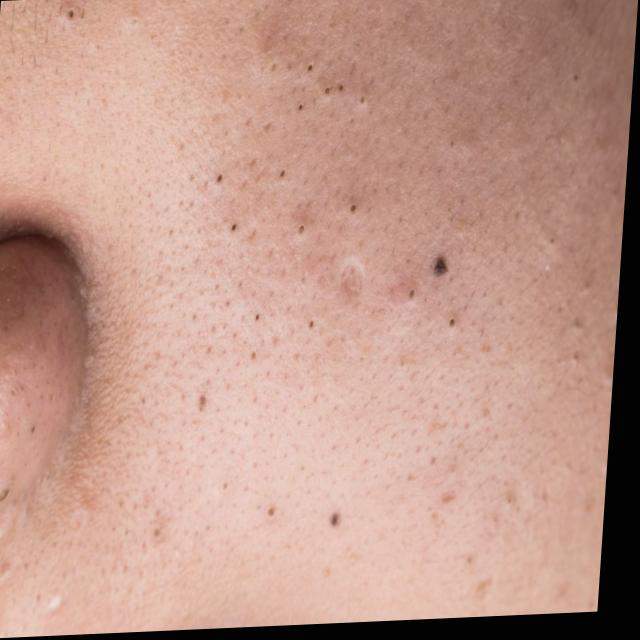dark spot: (429, 245, 463, 288), (273, 158, 295, 190), (345, 193, 367, 224), (333, 502, 350, 533), (444, 309, 465, 333), (230, 210, 247, 237), (292, 222, 313, 243)
